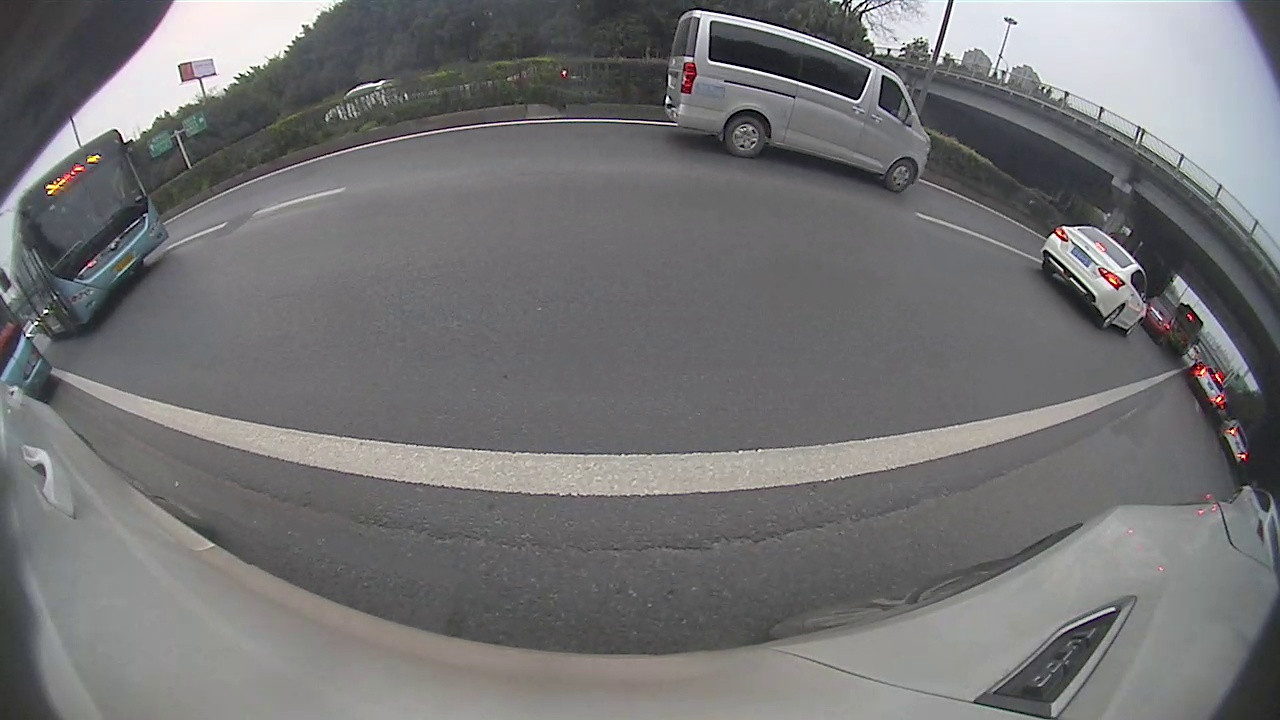bus: (8, 128, 172, 338), (1169, 303, 1203, 357)
car: (663, 10, 933, 195), (1043, 223, 1149, 338), (1139, 291, 1180, 345)
front: (883, 158, 918, 195)
rear: (722, 114, 769, 158), (1101, 302, 1125, 331)
